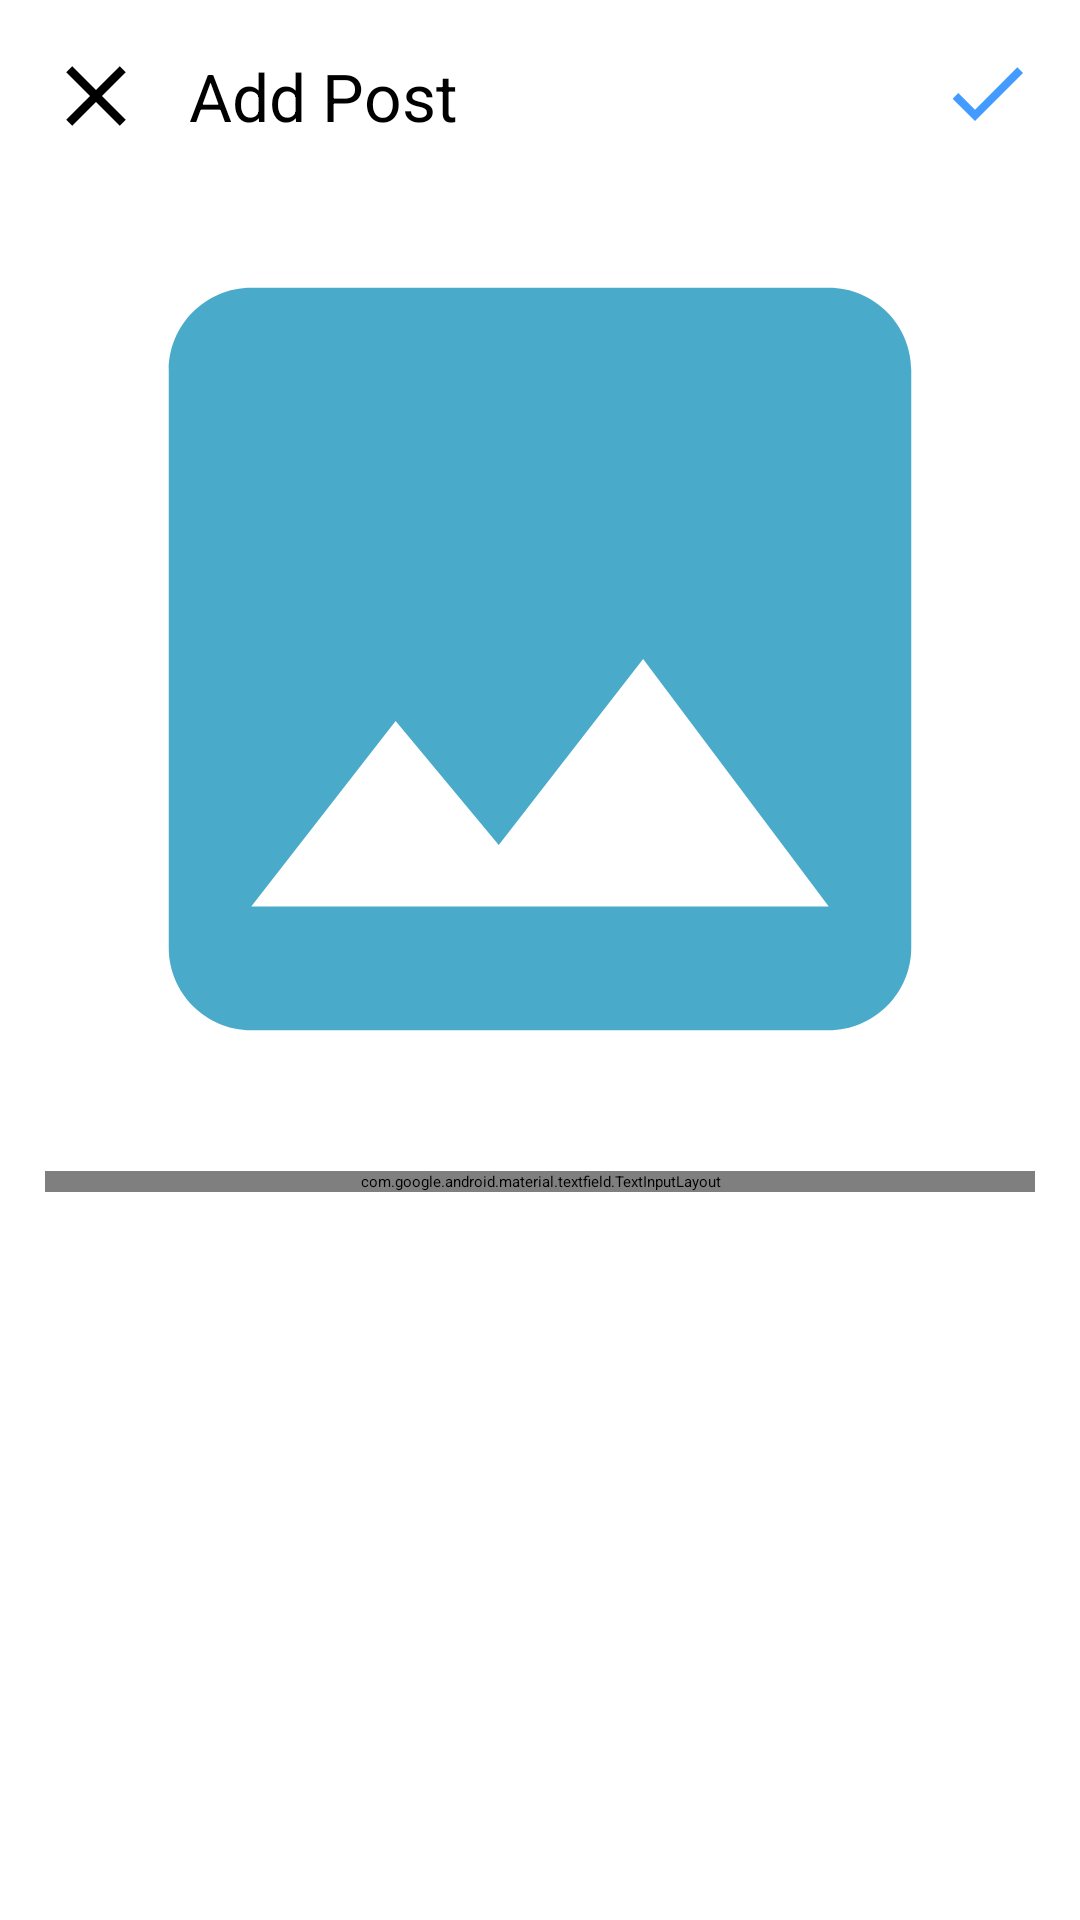

Icon click points for this 1080 × 1920 phone screenshot, format point (x, y):
check: point (988, 94)
close: point (96, 96)
